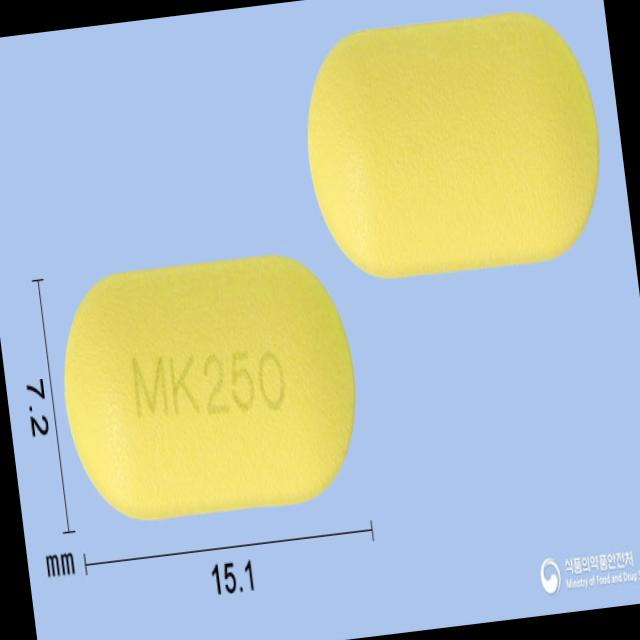Craycin - 500mg: (49, 244, 370, 530)
